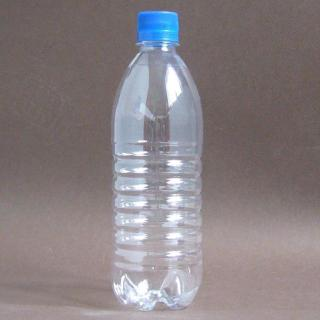Anorganik: (106, 4, 208, 312)
